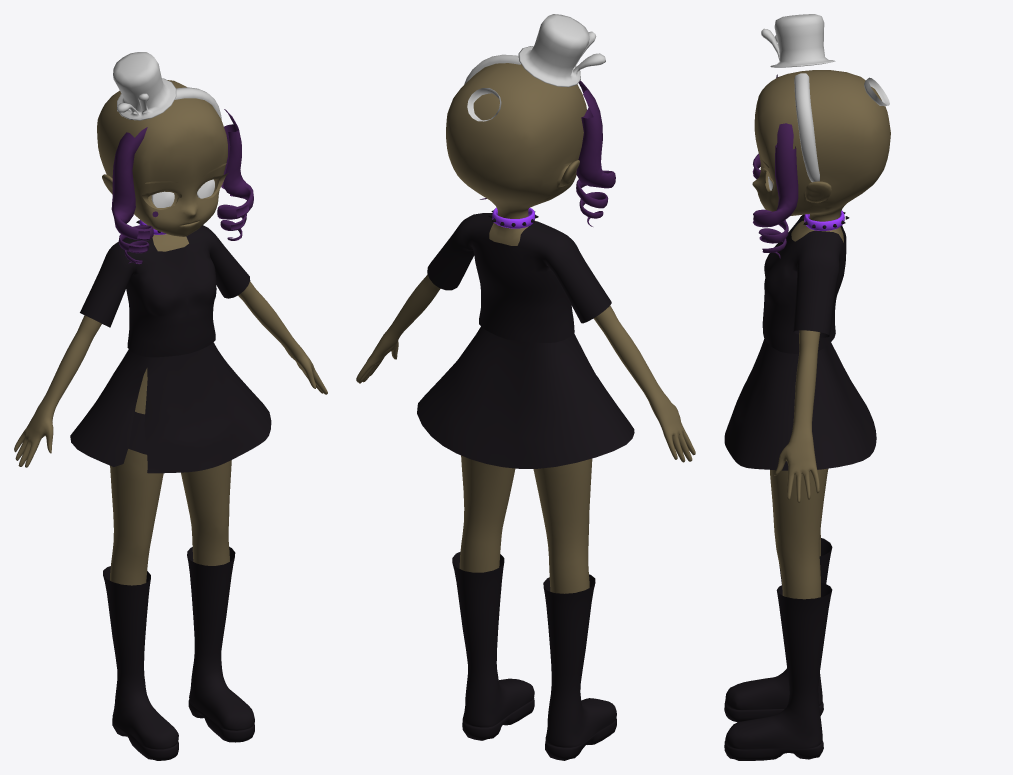
The model's file is test_stressdoll1.obj.
3 renders of one model, left to right at view 1: azimuth 30°, elevation 25°; view 2: azimuth 150°, elevation 25°; view 3: azimuth 270°, elevation 25°, orthographic. The views are drawn at different scales.
Parts seen in each view (by area): view 1: Cube.003_Cube.016, Cube.001, Cube.004, Eyes_Sphere.002; view 2: Cube.003_Cube.016, Cube.001, Cube.004; view 3: Cube.003_Cube.016, Cube.001, Cube.004, Collar_Cube.018.
Boxes of the visible parts, <box> form: Cube.003_Cube.016: <box>70,225,271,760</box>; Cube.001: <box>14,80,327,585</box>; Cube.004: <box>111,52,253,264</box>; Eyes_Sphere.002: <box>151,179,214,207</box>; Cube.003_Cube.016: <box>417,213,634,760</box>; Cube.001: <box>356,63,695,593</box>; Cube.004: <box>464,14,615,226</box>; Cube.003_Cube.016: <box>724,214,876,760</box>; Cube.001: <box>752,70,890,599</box>; Cube.004: <box>752,14,889,258</box>; Collar_Cube.018: <box>800,210,849,230</box>.
Bounding box in the file's own units: 0.8347 × 1.78 × 0.6203.
